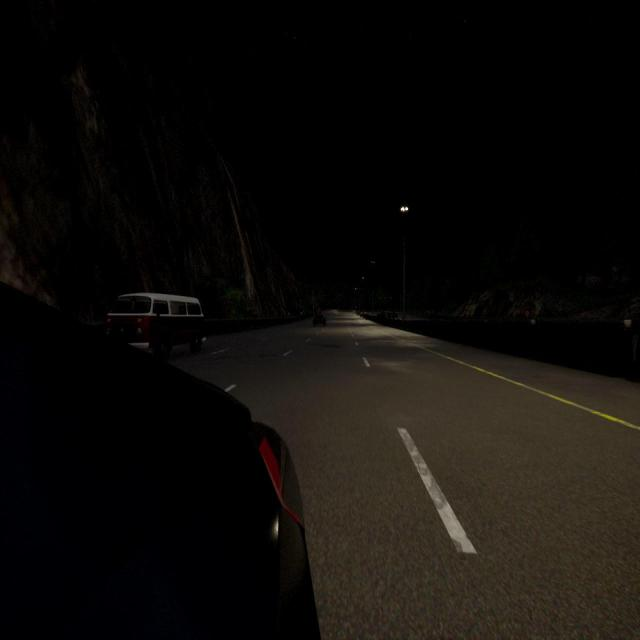Vehicle: (0, 285, 319, 640), (106, 288, 210, 356), (376, 310, 399, 320), (312, 313, 327, 327)
